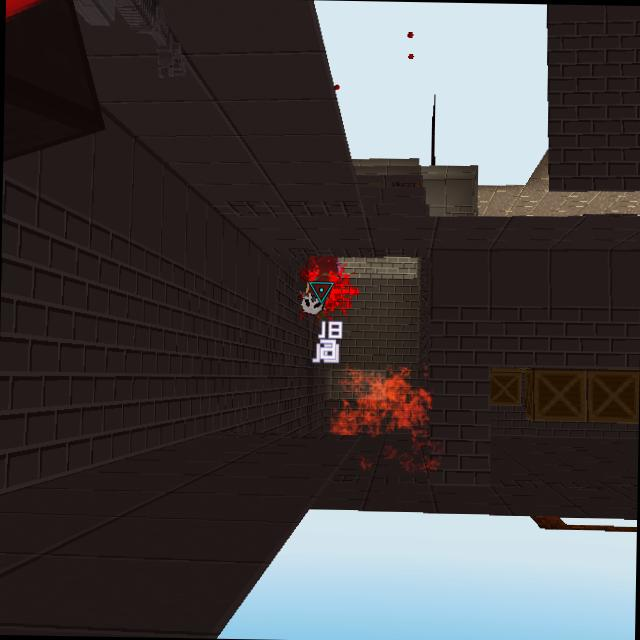enemy: (299, 254, 340, 319)
